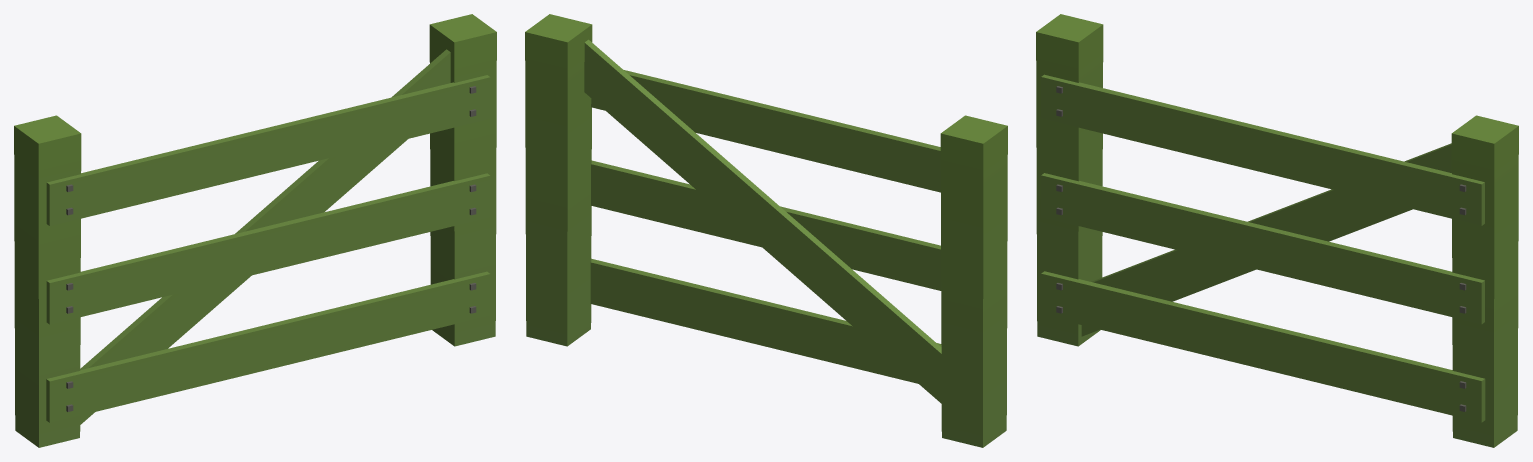
The model's file is Arch_03.fbx.
3 views of the same model, side by side, from view 1: azimuth 30°, elevation 25°; view 2: azimuth 150°, elevation 25°; view 3: azimuth 330°, elevation 25° (orthographic).
Parts seen in each view (by area): view 1: Arch_03; view 2: Arch_03; view 3: Arch_03.
Boxes of the visible parts, x1,y1,x2,y2 form: Arch_03: (14, 14, 496, 447); Arch_03: (525, 14, 1007, 447); Arch_03: (1036, 14, 1518, 447).
Size of the model in its own units: 1.73 by 1.1 by 0.1903.
